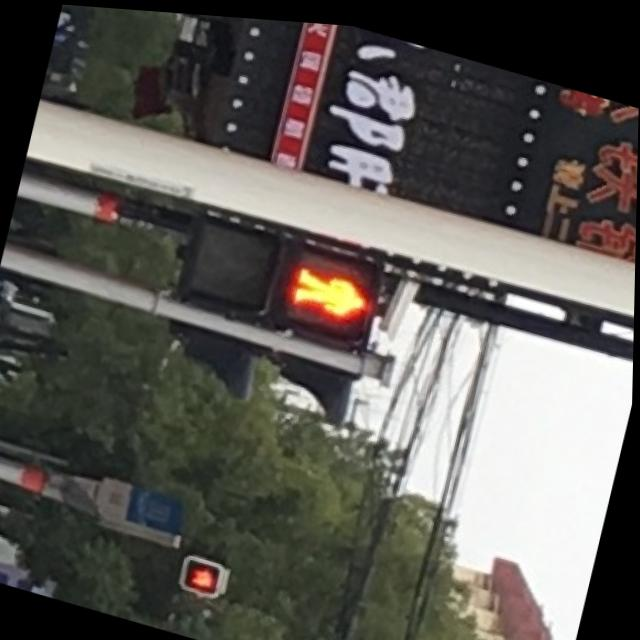red_light: (282, 240, 381, 336)
